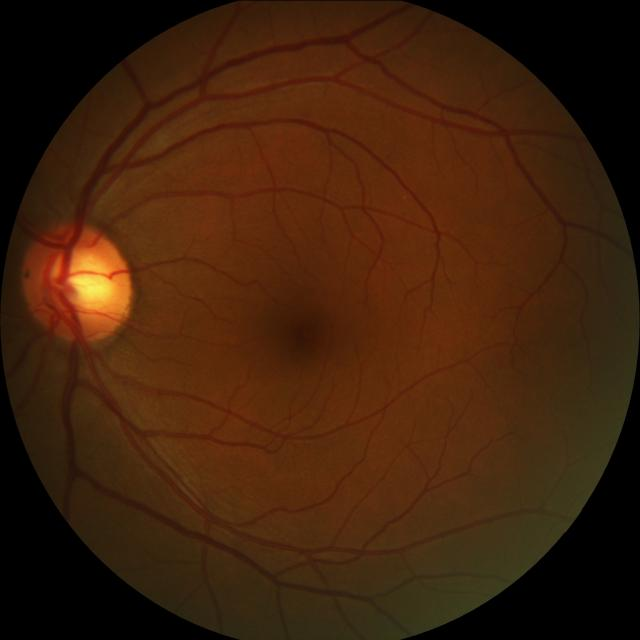OC: (50, 246, 114, 313)
OD: (18, 224, 130, 344)
